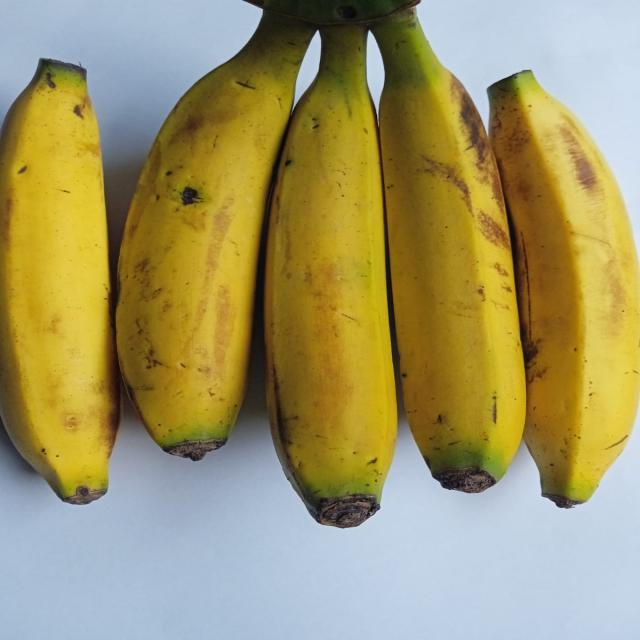banana: (117, 12, 315, 460), (373, 10, 525, 492), (265, 26, 396, 527), (489, 71, 639, 507), (0, 60, 119, 503)
